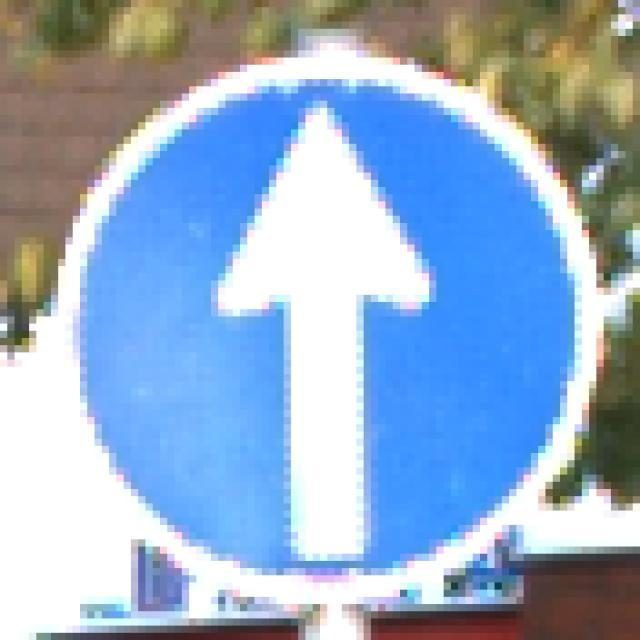compulsary ahead: (79, 58, 588, 571)
